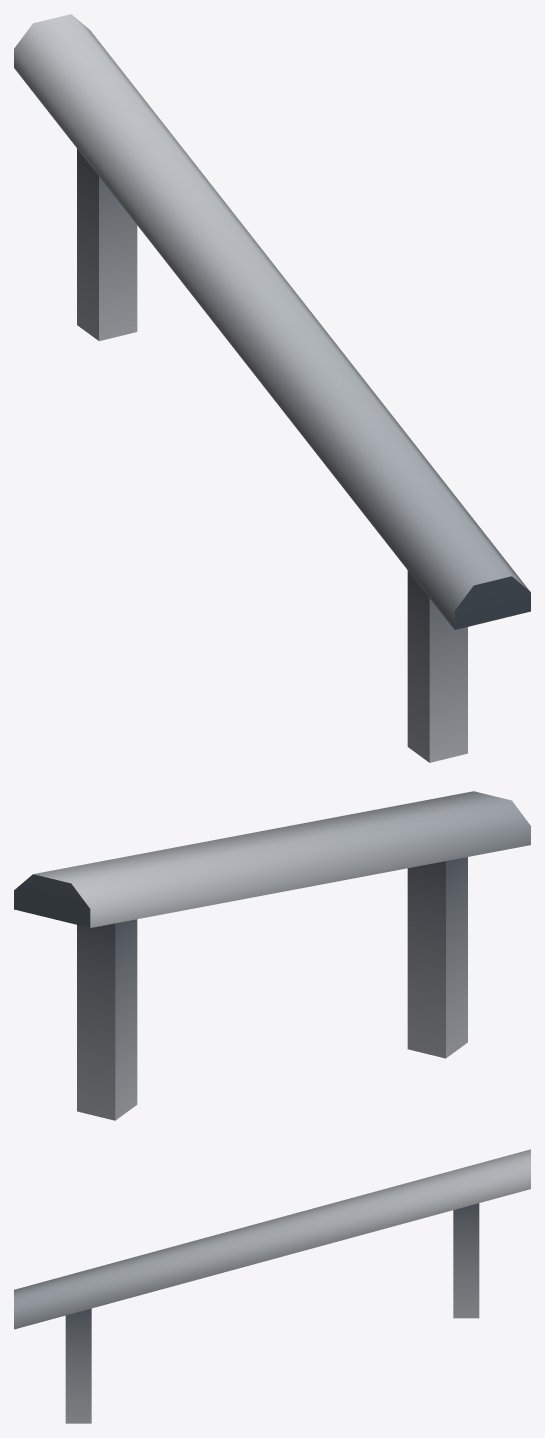
File: stairs-handrail-single.glb
The picture shows the model from 3 angles, top to bottom: view 1: azimuth 30°, elevation 25°; view 2: azimuth 150°, elevation 25°; view 3: azimuth 270°, elevation 25°; orthographic projection. The views are drawn at different scales.
Visible parts, largest first — view 1: stairs-handrail-single; view 2: stairs-handrail-single; view 3: stairs-handrail-single.
Boxes of the visible parts, box(x1,y1,x2,y2) form: stairs-handrail-single: box(14, 14, 530, 762); stairs-handrail-single: box(14, 791, 530, 1120); stairs-handrail-single: box(14, 1149, 530, 1423).
Bounding box in the file's own units: 0.1 × 0.5625 × 1.
